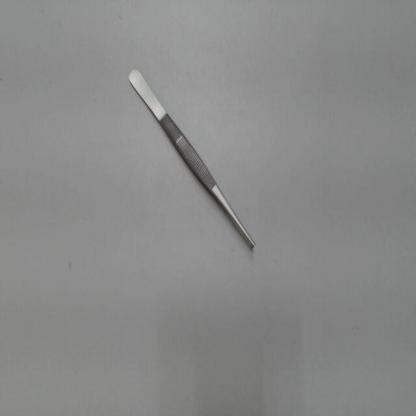Gillies Toothed Dissector: (121, 55, 265, 262)
